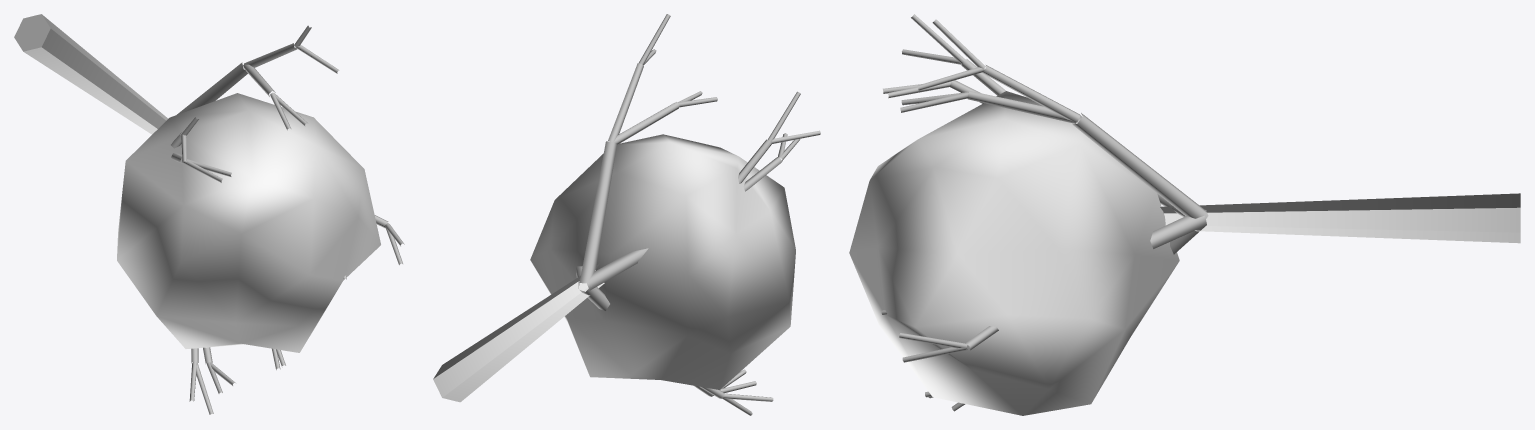
The model's file is SM_Sakura_Tree_Large.glb.
3 views of the same model, side by side, from view 1: azimuth 30°, elevation 25°; view 2: azimuth 150°, elevation 25°; view 3: azimuth 270°, elevation 25° (orthographic). The views are drawn at different scales.
Parts seen in each view (by area): view 1: asset_sakura_tree_large; view 2: asset_sakura_tree_large; view 3: asset_sakura_tree_large.
Part boxes in pixels (box(x1,y1,x2,y2)): asset_sakura_tree_large: box(14, 14, 404, 414); asset_sakura_tree_large: box(433, 14, 820, 415); asset_sakura_tree_large: box(849, 14, 1520, 415).
Bounding box in the file's own units: 3.01 × 4.31 × 5.9.
Materials: 2 (2 with a texture image).
